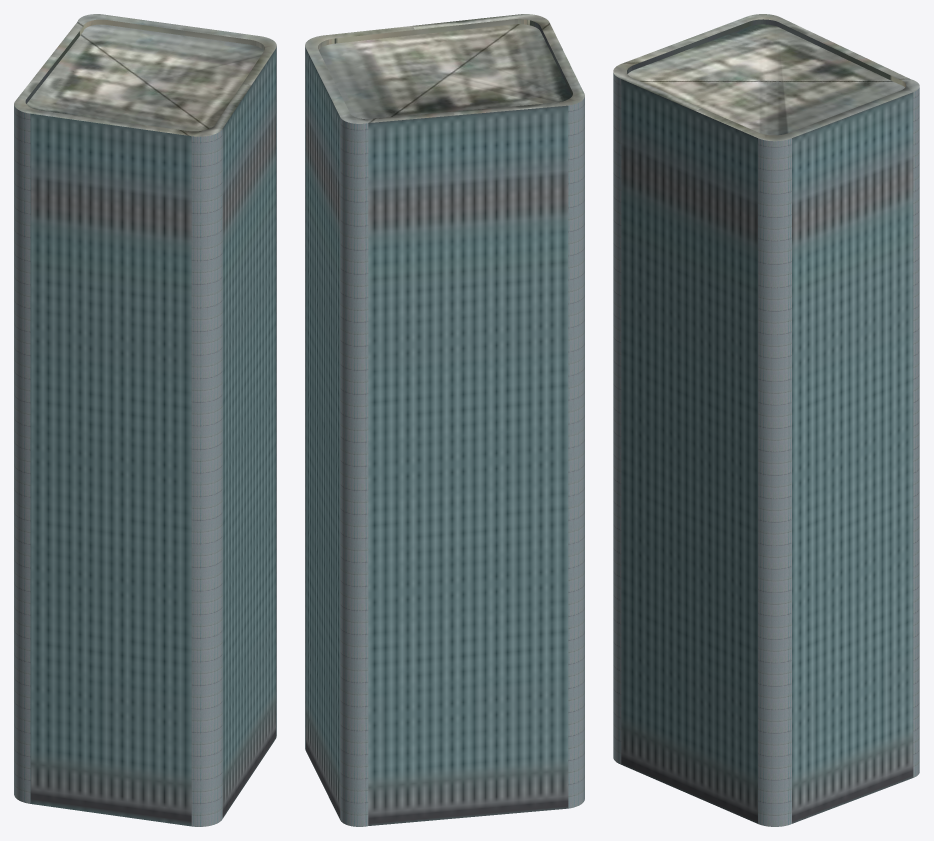
Rendered from hs_bank.dae.
3 renders of one model, left to right at view 1: azimuth 30°, elevation 25°; view 2: azimuth 150°, elevation 25°; view 3: azimuth 270°, elevation 25°, orthographic. The views are drawn at different scales.
Visible parts, largest first — view 1: Metal_Panel, Color_001, _Gray6_; view 2: Metal_Panel, Color_001, _Gray6_; view 3: Metal_Panel, Color_001, _Gray6_.
Boxes of the visible parts, x1=… form: Metal_Panel: x1=30, y1=49, x2=275, y2=826; Color_001: x1=14, y1=46, x2=276, y2=826; _Gray6_: x1=14, y1=14, x2=276, y2=136; Metal_Panel: x1=306, y1=49, x2=568, y2=825; Color_001: x1=305, y1=46, x2=584, y2=826; _Gray6_: x1=305, y1=14, x2=584, y2=123; Metal_Panel: x1=621, y1=79, x2=913, y2=823; Color_001: x1=613, y1=73, x2=919, y2=826; _Gray6_: x1=613, y1=14, x2=919, y2=141.
Size of the model in its own units: 54.52 by 55.5 by 137.
Materials: 3 (3 with a texture image).
